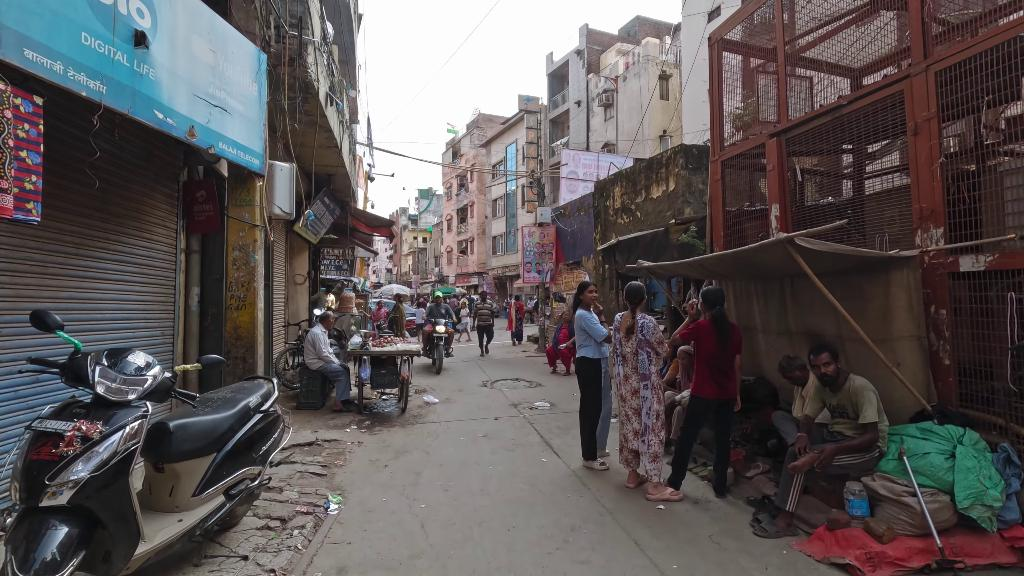garbage: (421, 388, 442, 413), (327, 492, 345, 517), (532, 397, 552, 417)
